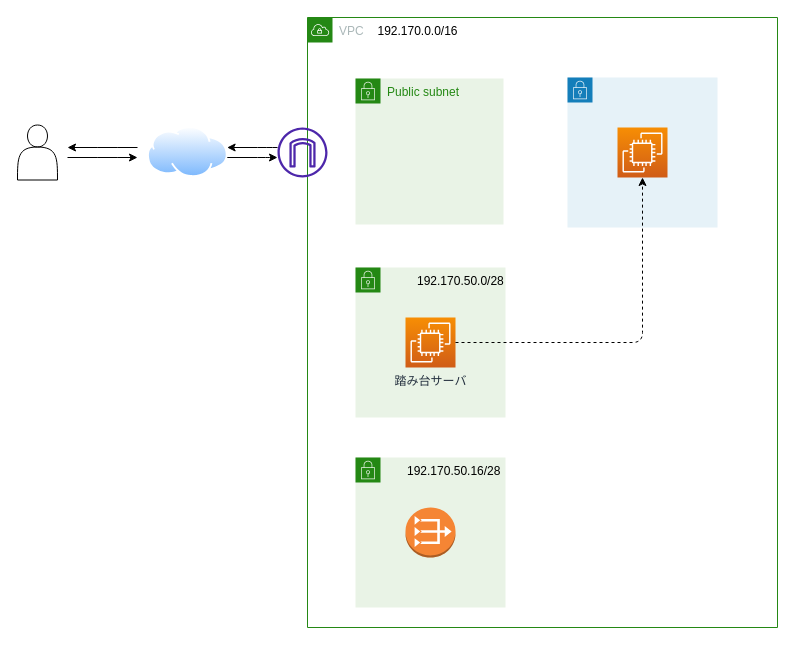
The diagram is 795 pixels wide and 645 high, and some of its shapes have lost their labels. The box of each missing label's shape, as (x1, y1, x2, y2) in pixels:
DBサーバ: (616, 126, 668, 178)
NAT gateway: (404, 506, 456, 558)
